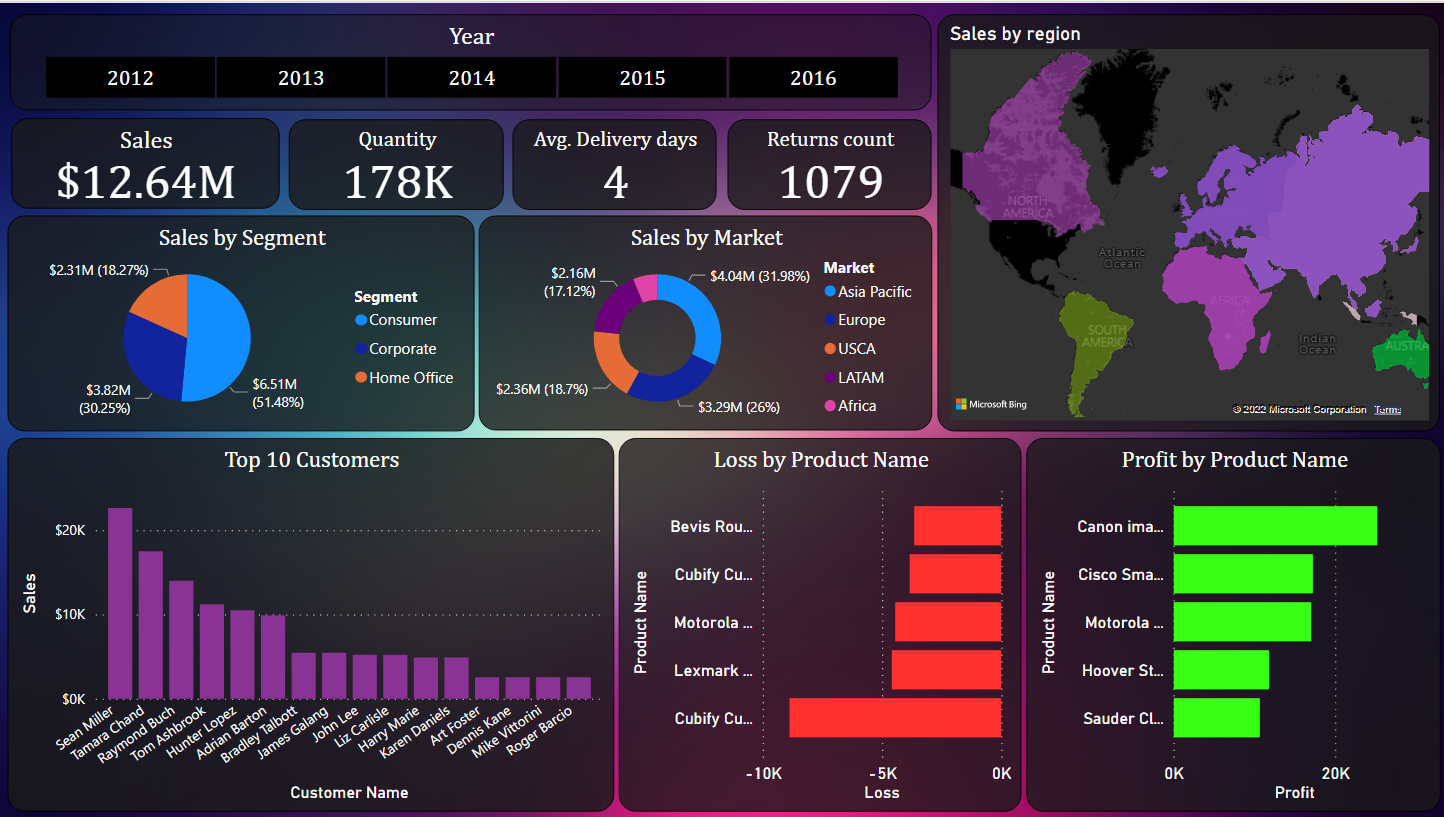

The page's visual inventory and layout, read from the dashboard file:
{"tool":"powerbi","page":{"name":"Page 1","canvas":[1280,720],"ordinal":0},"visuals":[{"type":"card","title":"Sales","fields":{"Values":["Orders.Sales"]},"box":[9.6,101.5,236.4,80],"z":0},{"type":"card","title":"Quantity","fields":{"Values":["Orders.Quantity"]},"box":[254.8,102.4,189.8,79.9],"z":1000},{"type":"card","title":"Avg. Delivery days","fields":{"Values":["Orders.Delivery days"]},"box":[452.1,102.4,179.8,79.9],"z":2000},{"type":"slicer","title":"Year","fields":{"Values":["Orders.Ship Date.Variation.Date Hierarchy.Year"]},"box":[8.7,10,813,84.9],"z":3000},{"type":"card","title":"Returns count","fields":{"Values":["Returns.Return"]},"box":[641.9,102.4,179.8,79.9],"z":4000},{"type":"clusteredBarChart","fields":{"Y":["Orders.Profit"],"Category":["Orders.Product Name"]},"box":[905.4,383.4,365.9,329.7],"z":5000},{"type":"clusteredBarChart","title":"Loss by Product Name","fields":{"Y":["Orders.Profit"],"Category":["Orders.Product Name"]},"box":[545.7,383.3,355,329.6],"z":5001},{"type":"filledMap","title":"Sales by region","fields":{"Category":["Orders.Region"],"Series":["Orders.Sales"]},"box":[827.5,9.6,443,367.8],"z":5002},{"type":"pieChart","fields":{"Y":["Orders.Sales"],"Category":["Orders.Segment"]},"box":[7.2,187.5,411.9,190],"z":5003},{"type":"donutChart","fields":{"Y":["Orders.Sales"],"Category":["Orders.Market"]},"box":[422.7,187.5,400,189.9],"z":5004},{"type":"columnChart","title":"Top 10 Customers","fields":{"Category":["Orders.Customer Name"],"Y":["Orders.Sales"]},"box":[7.2,383.3,534.9,329.6],"z":5005}]}

Visuals, with their boxes in screenshot pixels (x1, y1, x2, y2), scaled from the page's 1280x720 canvas onto the 1444x817 screenshot:
"Sales" card: (11, 115, 278, 206)
"Quantity" card: (287, 116, 502, 207)
"Avg. Delivery days" card: (510, 116, 713, 207)
"Year" slicer: (10, 11, 927, 108)
"Returns count" card: (724, 116, 927, 207)
clusteredBarChart - Orders.Profit x Orders.Product Name: (1021, 435, 1434, 809)
"Loss by Product Name" clusteredBarChart: (616, 435, 1016, 809)
"Sales by region" filledMap: (934, 11, 1433, 428)
pieChart - Orders.Sales x Orders.Segment: (8, 213, 473, 428)
donutChart - Orders.Sales x Orders.Market: (477, 213, 928, 428)
"Top 10 Customers" columnChart: (8, 435, 612, 809)
